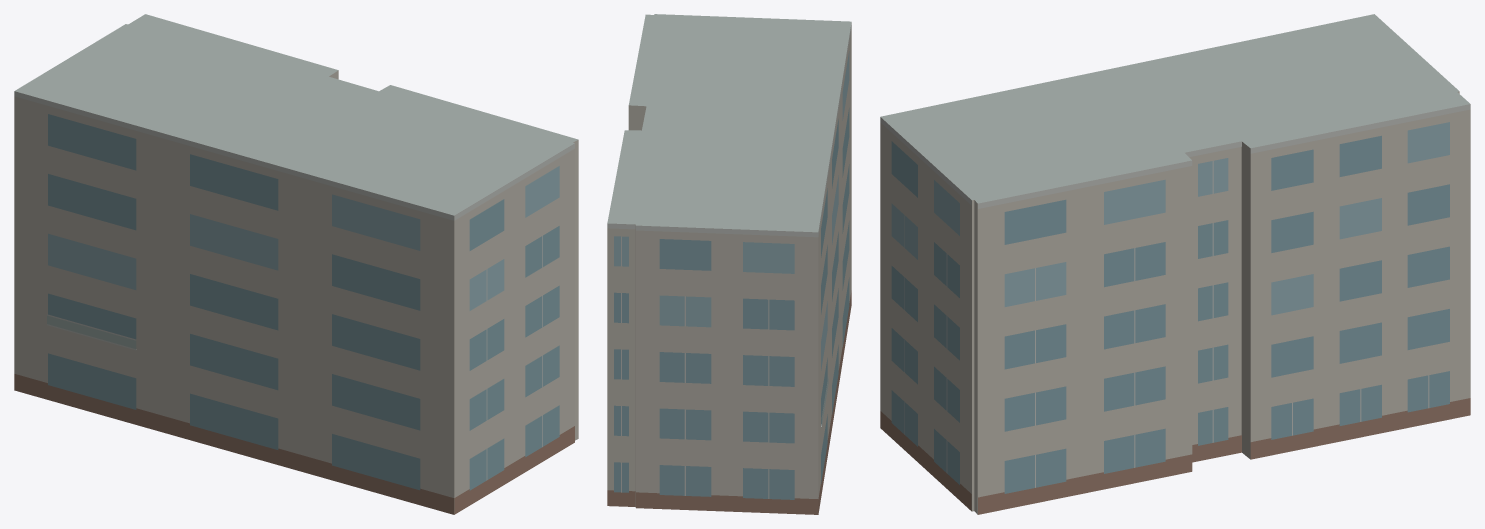
File: survey-upis-32658038.glb
The picture shows the model from 3 angles, left to right: view 1: azimuth 30°, elevation 25°; view 2: azimuth 150°, elevation 25°; view 3: azimuth 270°, elevation 25°; orthographic projection. The views are drawn at different scales.
Visible parts, largest first — view 1: survey-upis-32658038.tmp; view 2: survey-upis-32658038.tmp; view 3: survey-upis-32658038.tmp.
Part boxes in pixels (x1,y1,x2,y2): survey-upis-32658038.tmp: (14,14,578,514); survey-upis-32658038.tmp: (607,14,851,514); survey-upis-32658038.tmp: (880,14,1470,514).
Size of the model in its own units: 18.19 by 13.91 by 23.92.
